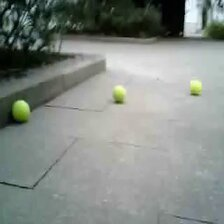tennis: (11, 99, 32, 122), (112, 86, 125, 101), (190, 80, 203, 94)
